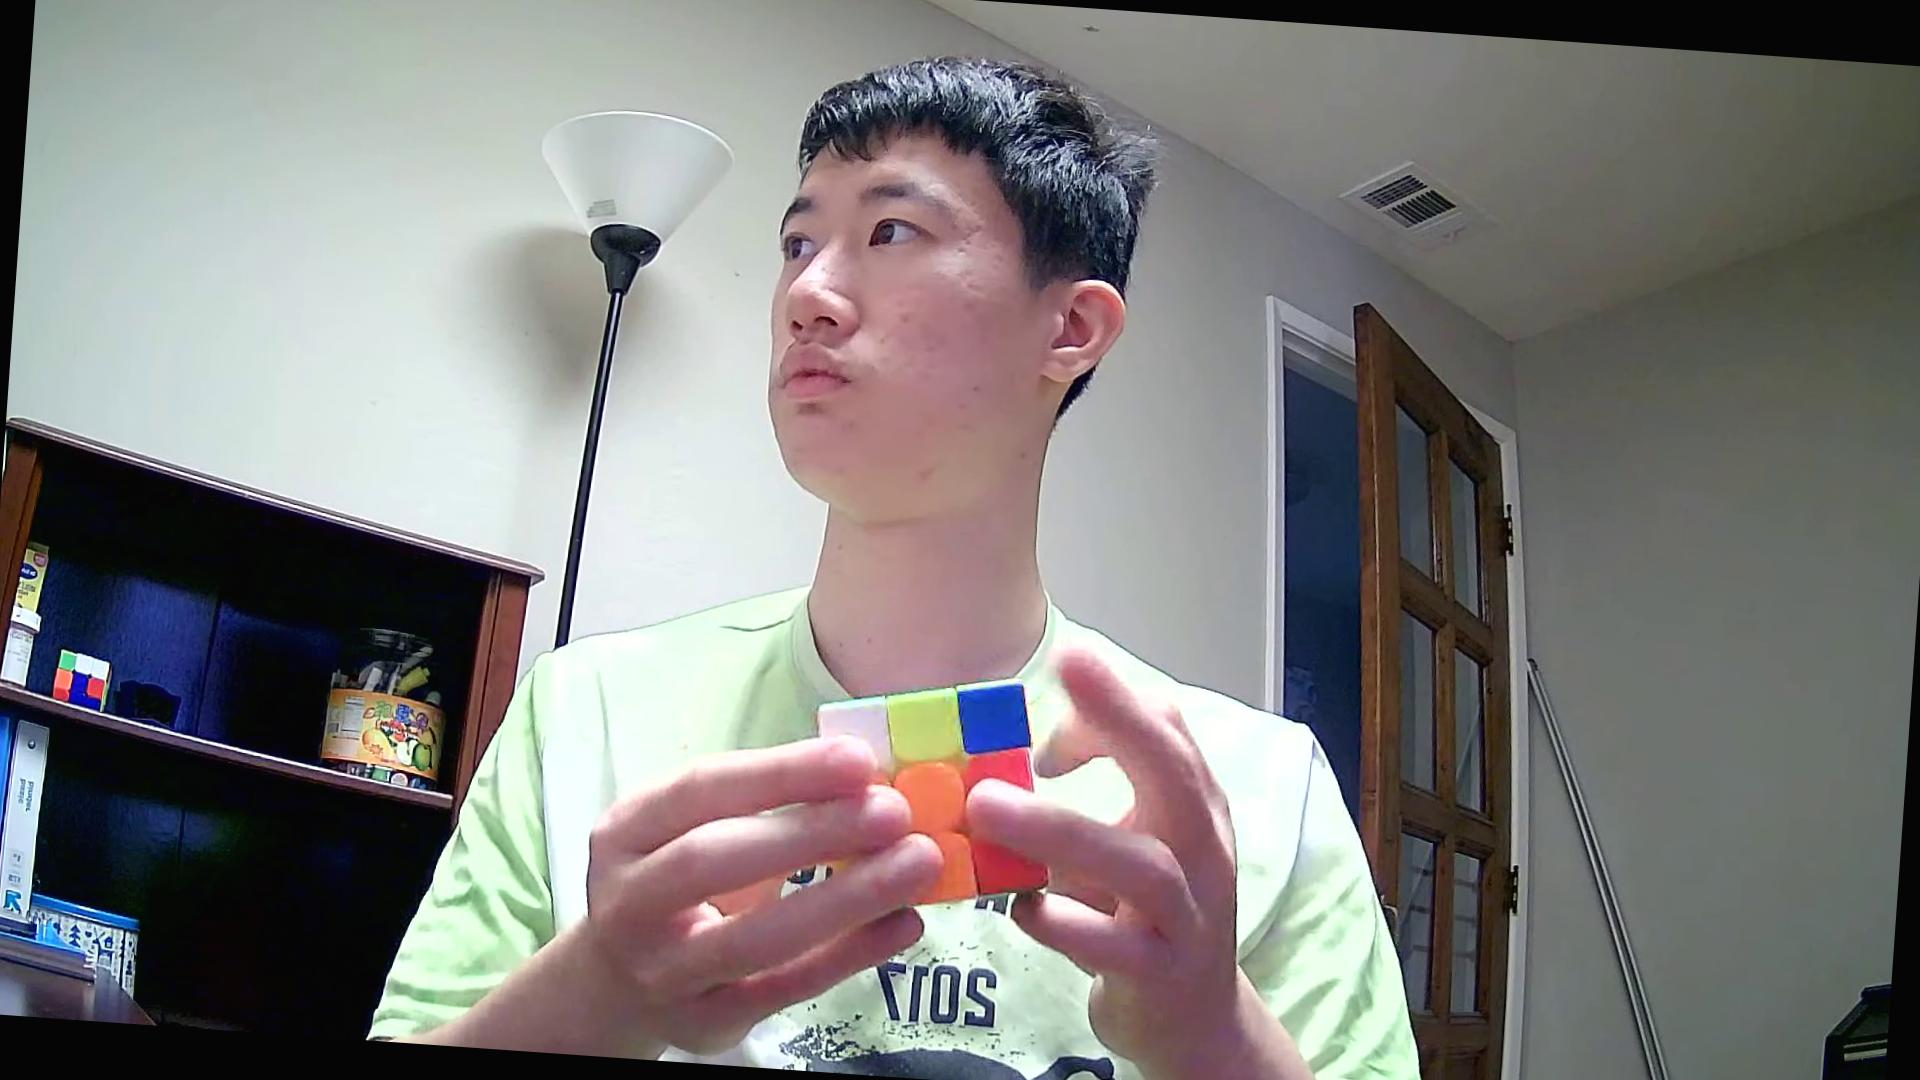Rubiks-Cube: (800, 657, 1068, 927)
